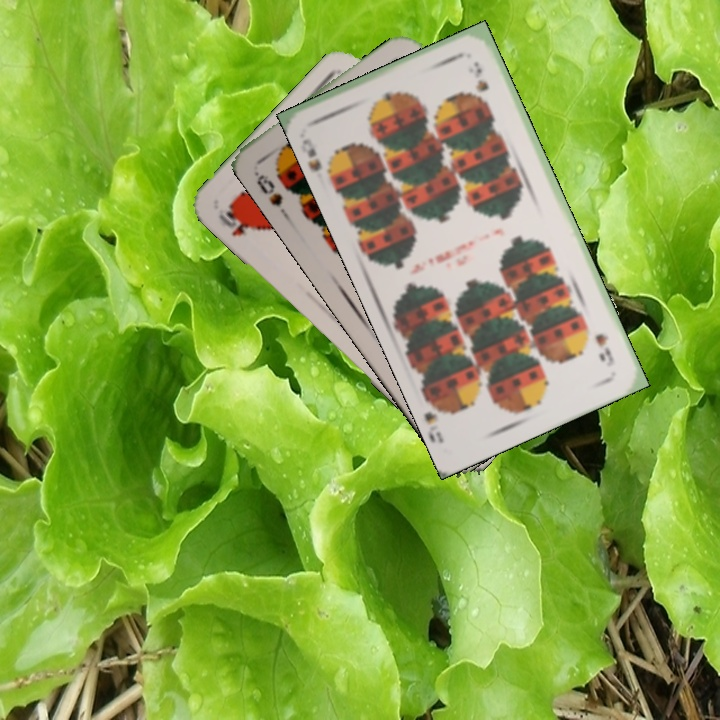HO: (214, 202, 257, 239)
S8: (250, 167, 286, 209)
S9: (298, 134, 340, 182), (590, 329, 617, 370)
